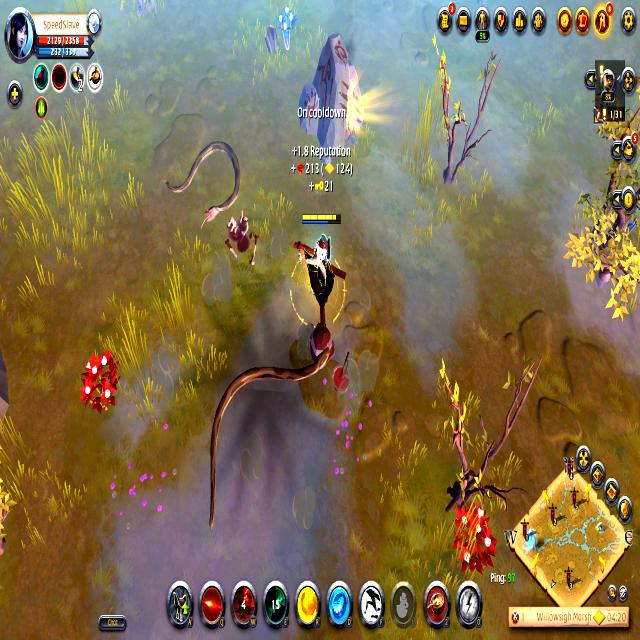hide: (449, 494, 499, 583), (76, 342, 127, 421), (272, 0, 300, 55)
ore: (197, 328, 336, 540)
red: (296, 208, 345, 264)
